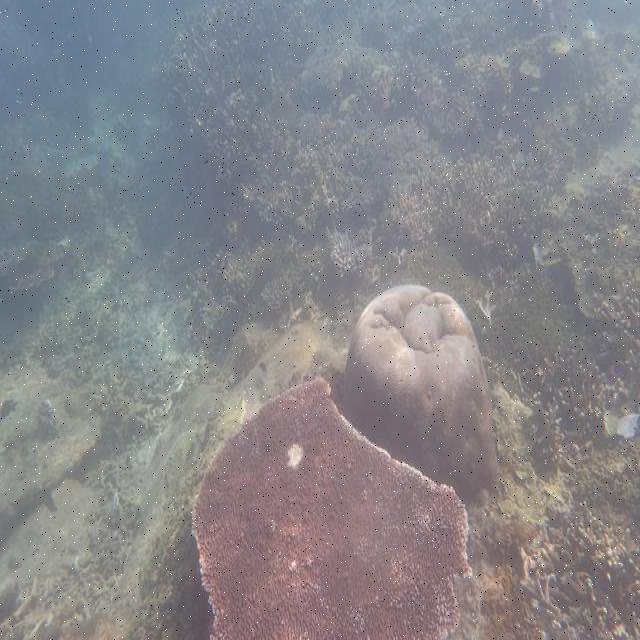reefs: (192, 379, 472, 639), (343, 283, 498, 499)
